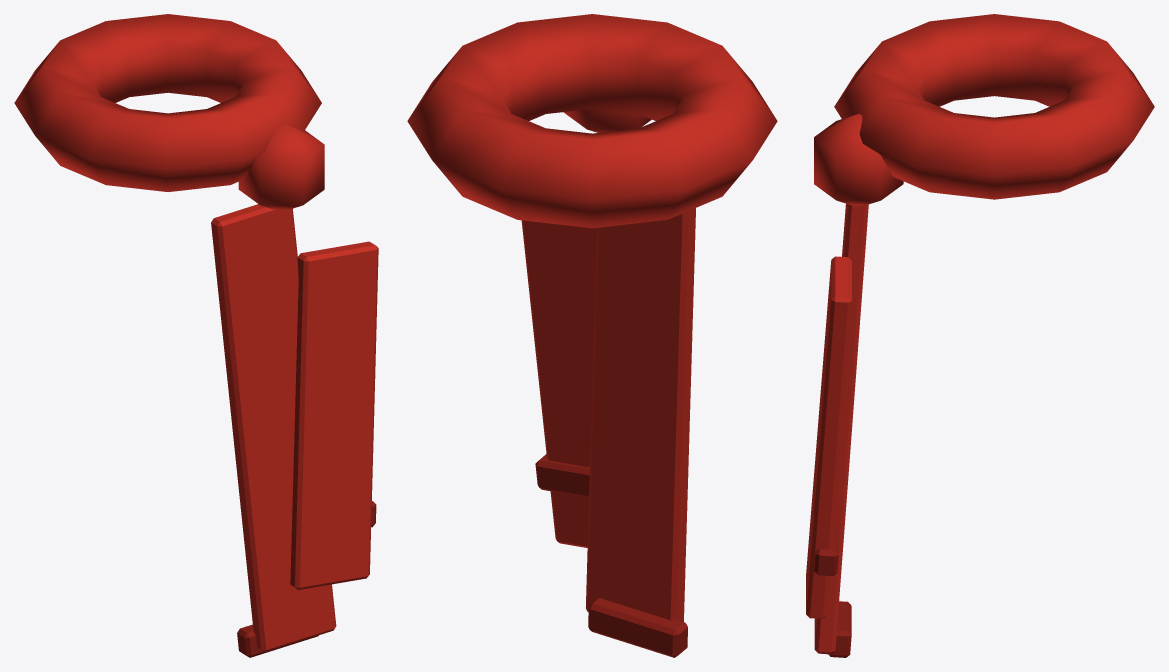
File: npc_scarf_red.glb
3 views of the same model, side by side, from view 1: azimuth 30°, elevation 25°; view 2: azimuth 150°, elevation 25°; view 3: azimuth 270°, elevation 25° (orthographic). The views are drawn at different scales.
Parts seen in each view (by area): view 1: part.npc_scarf_red; view 2: part.npc_scarf_red; view 3: part.npc_scarf_red.
Part boxes in pixels (x1,y1,x2,y2): part.npc_scarf_red: (14, 14, 378, 657); part.npc_scarf_red: (407, 14, 777, 657); part.npc_scarf_red: (806, 14, 1154, 657).
Bounding box in the file's own units: 0.2486 × 0.4759 × 0.2697.
